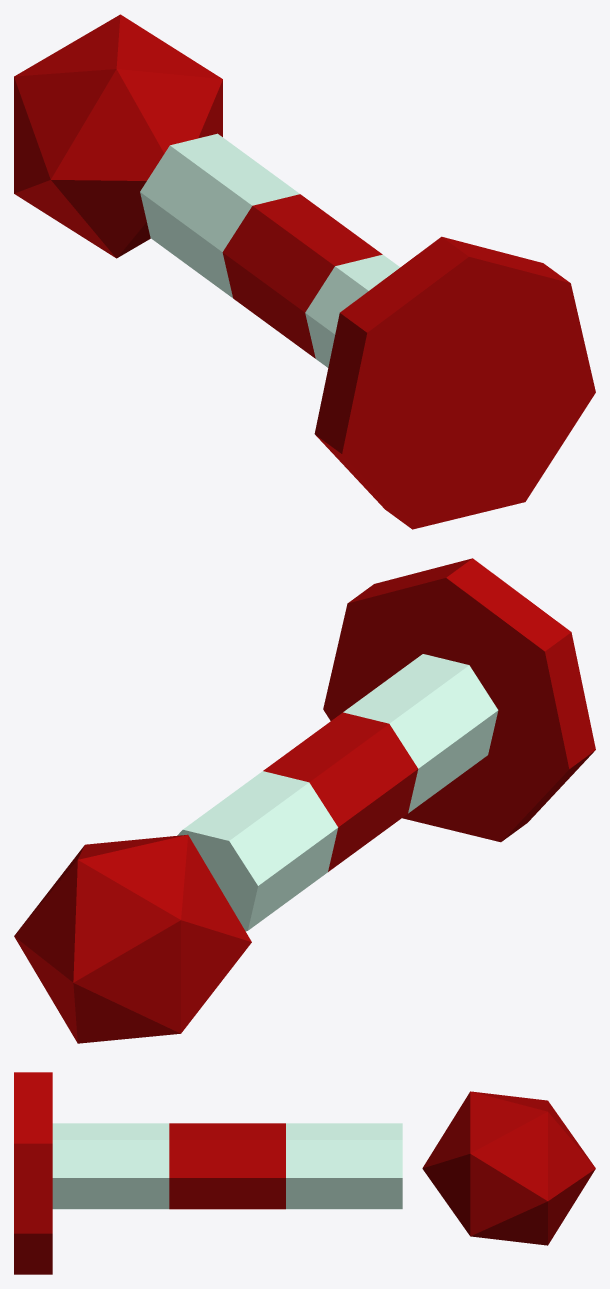
Rendered from Bollardblocked.fbx.
3 views of the same model, one above another, from view 1: azimuth 30°, elevation 25°; view 2: azimuth 150°, elevation 25°; view 3: azimuth 270°, elevation 25° (orthographic). The views are drawn at different scales.
Parts seen in each view (by area): view 1: Bollardblocked; view 2: Bollardblocked; view 3: Bollardblocked.
Boxes of the visible parts, left/top/right/bottom form: Bollardblocked: left=14, top=14, right=595, bottom=529; Bollardblocked: left=14, top=558, right=595, bottom=1043; Bollardblocked: left=14, top=1072, right=595, bottom=1274.
Bounding box in the file's own units: 1.2 × 1.17 × 3.37.
